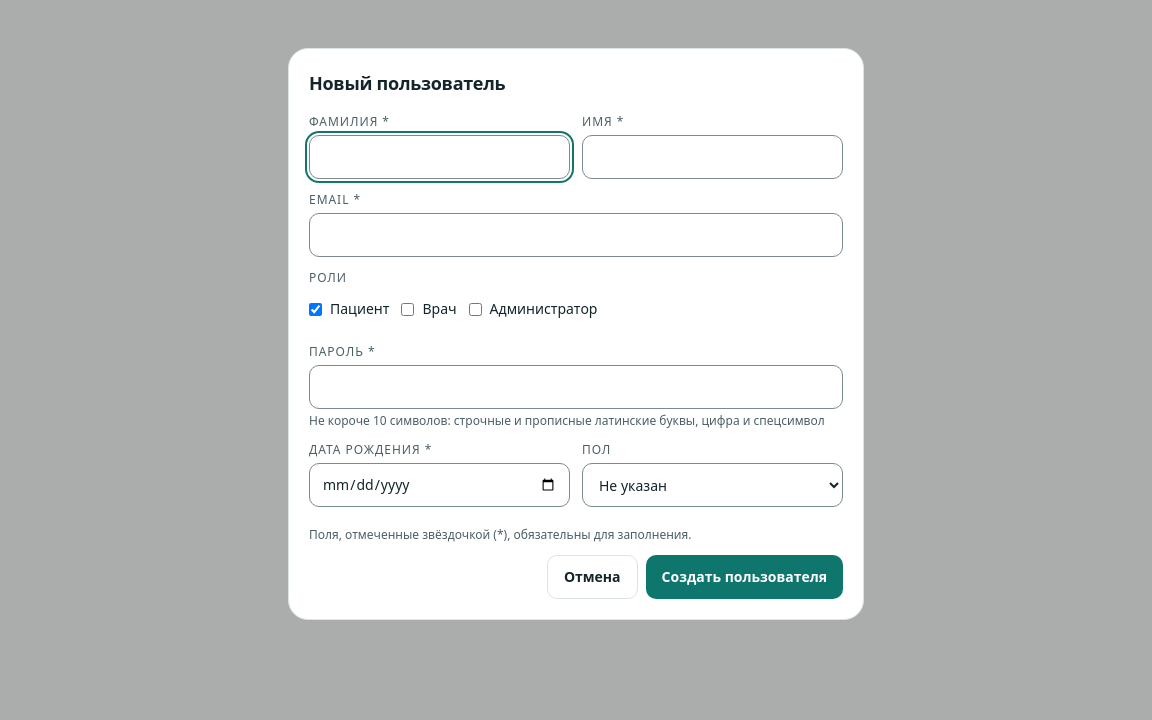
UserFormDialog (create) › should not announce the old failure again when the email is edited after EMAIL_TAKEN
In the field labelled "Фамилия *": (440, 157) [309,135,570,179], type "Тестов"
In the field labelled "Имя *": (712, 157) [582,135,843,179], type "Админ"
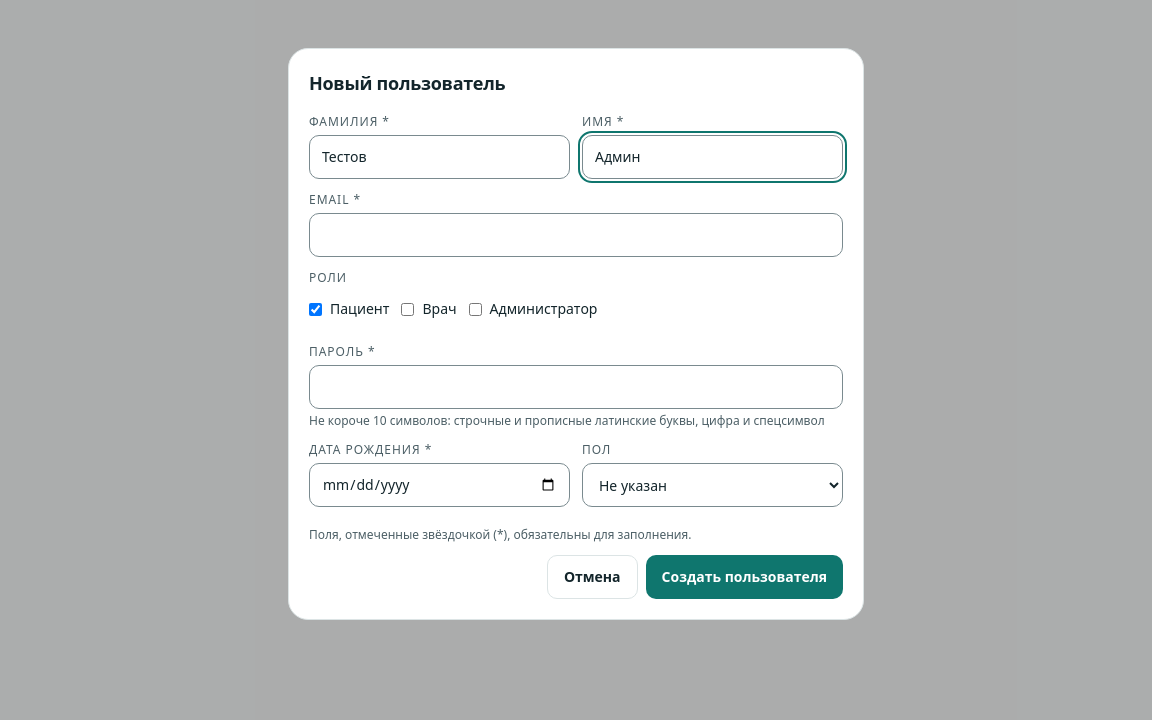
In the field labelled "Email *": (576, 235) [309,213,843,257], type "new.admin@medcenter.test"
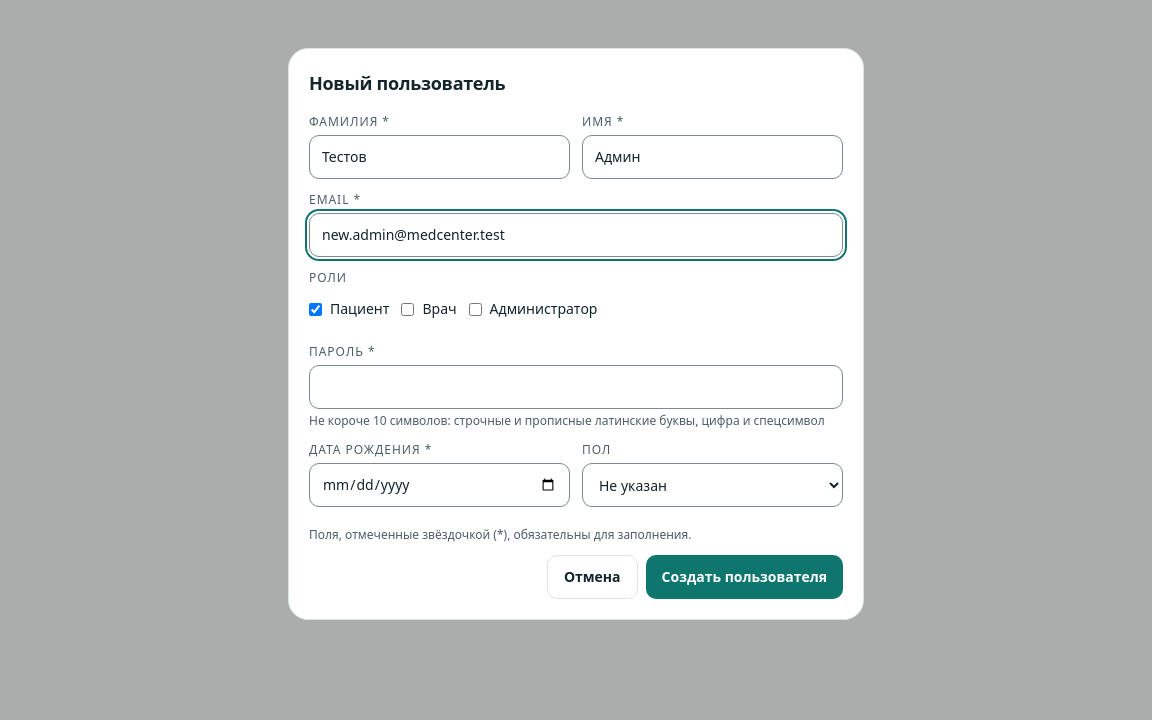
Click the checkbox labelled "Пациент": (316, 309) [309,302,322,316]
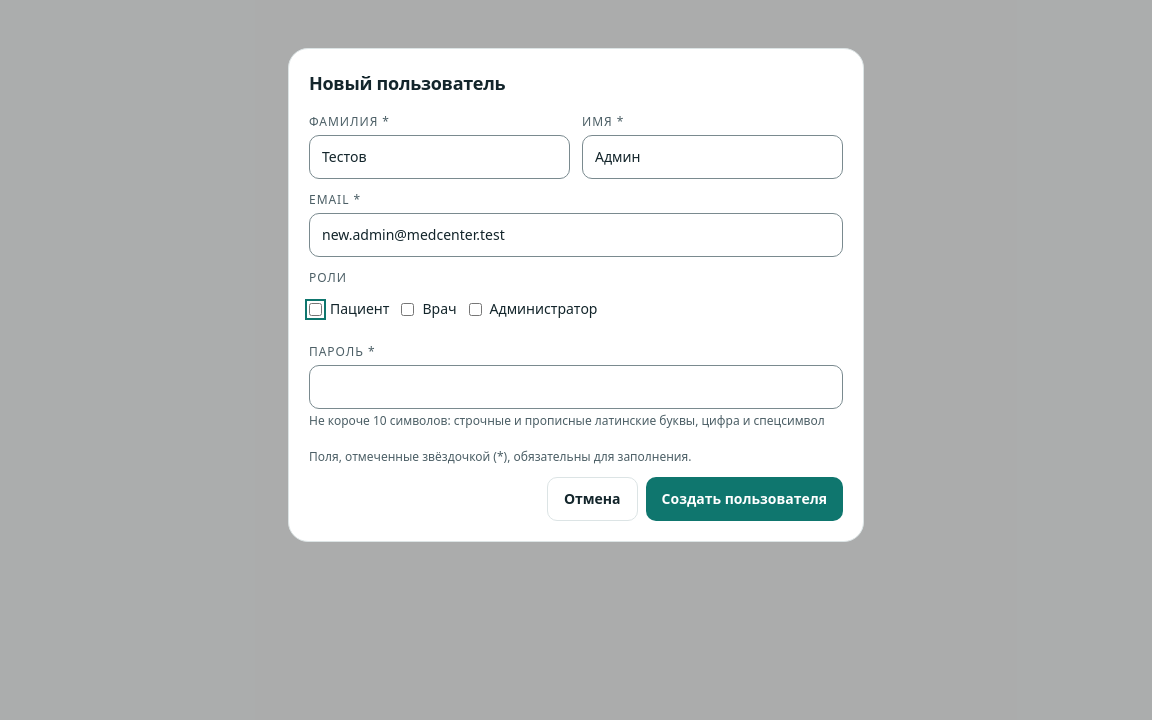
Click the checkbox labelled "Администратор": (475, 309) [469,302,482,316]
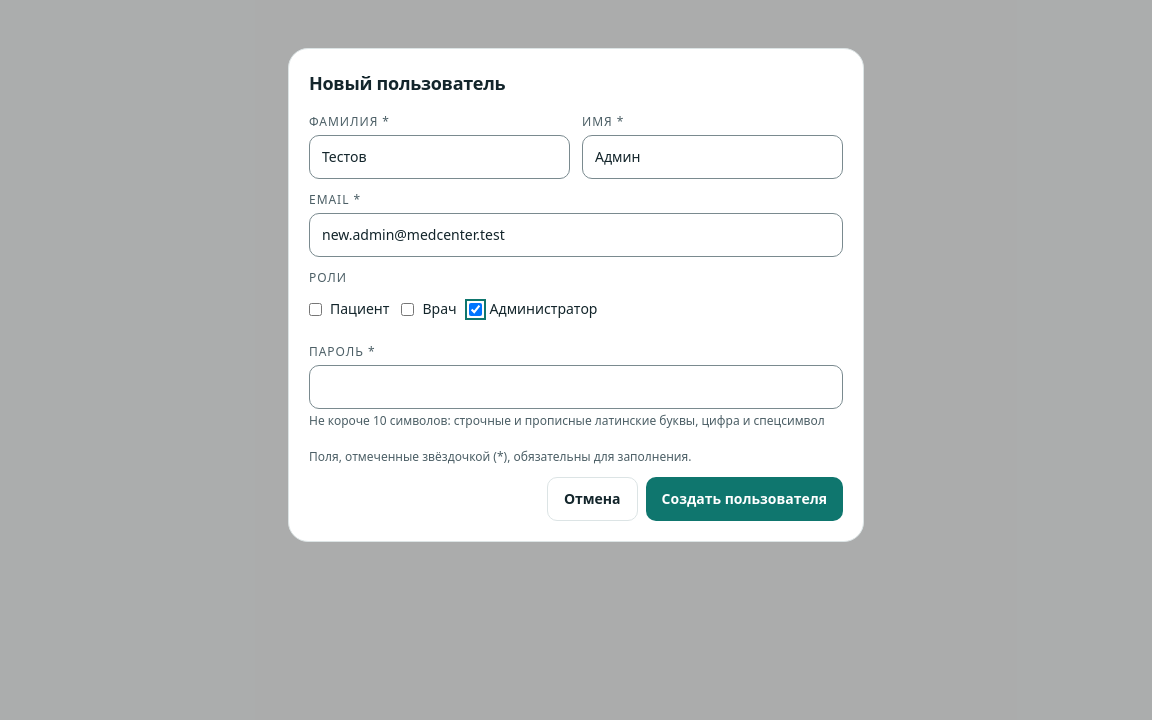
In the password field labelled "Пароль *": (576, 387) [309,365,843,409], type "Str0ng!Pass1"
Click the button "Создать пользователя": (744, 499) [646,477,843,521]
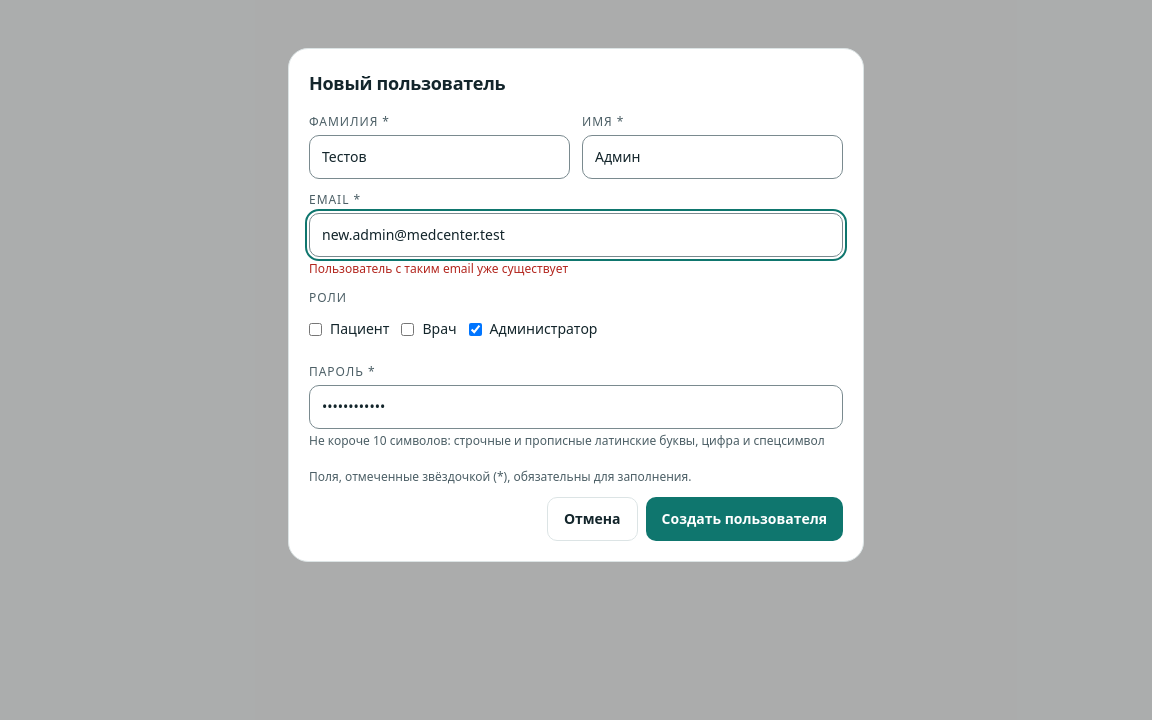
Expected: the text "Пользователь с таким email уже существует" is shown, [309,260,568,277]
In the field labelled "Email *": (576, 235) [309,213,843,257], type "x"
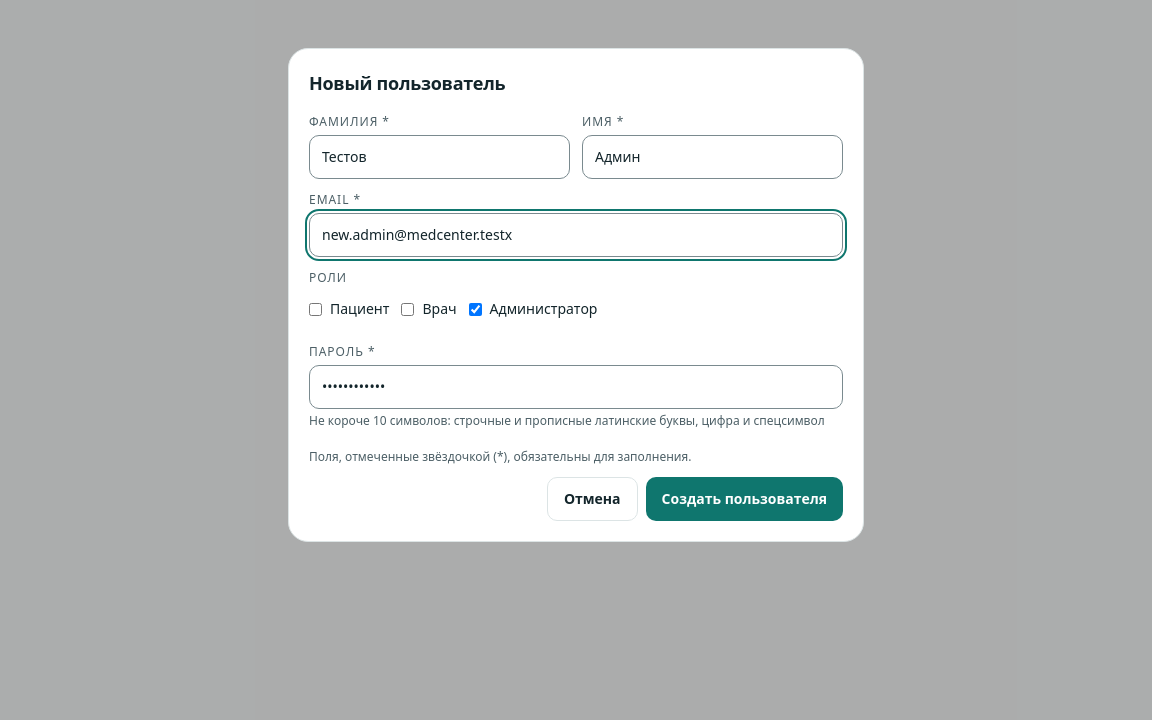
Expected: the text "Пользователь с таким email уже существует" is gone
